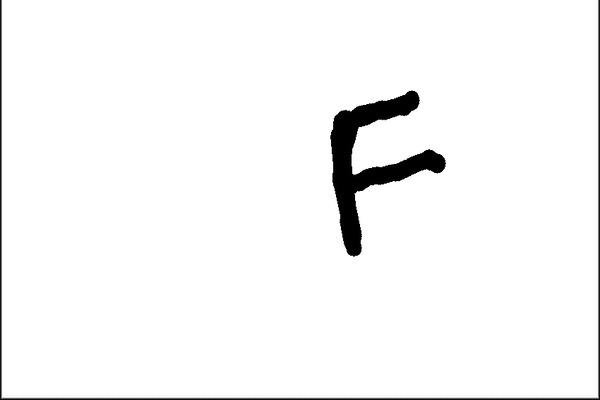F: (323, 87, 449, 261)
